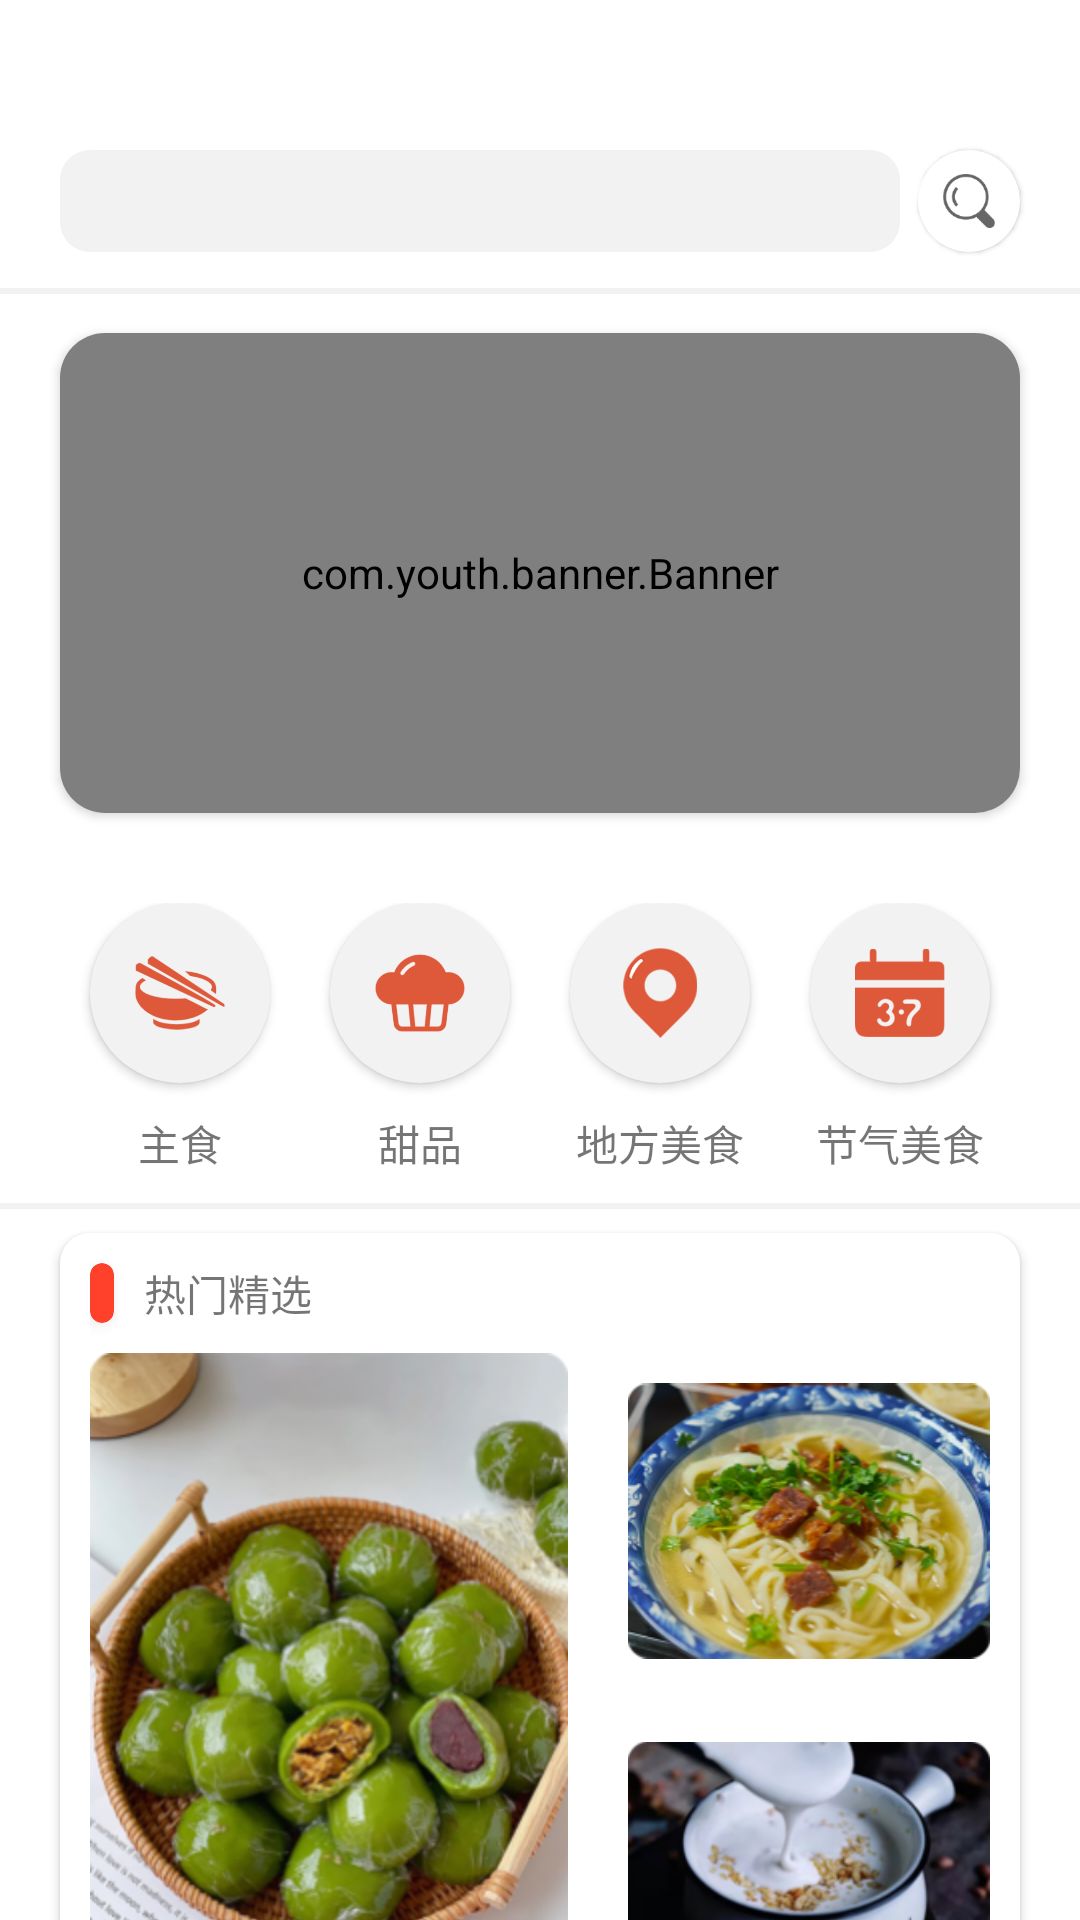

Point at icon controls on the screen. Image size 1080px×1920px, points as [x,y].
calendar: [900,993]
location: [660,993]
search: [969,201]
